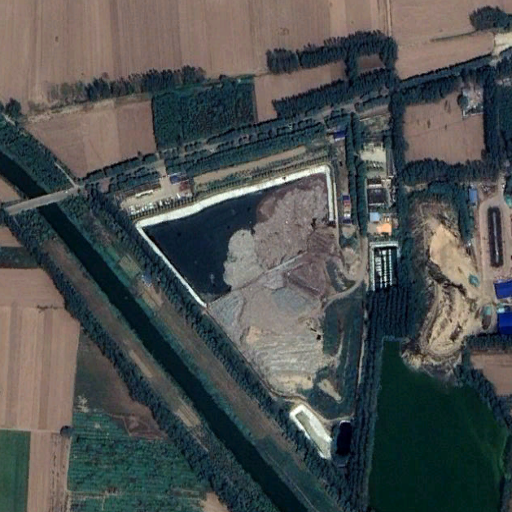lf: (135, 165, 337, 399)
